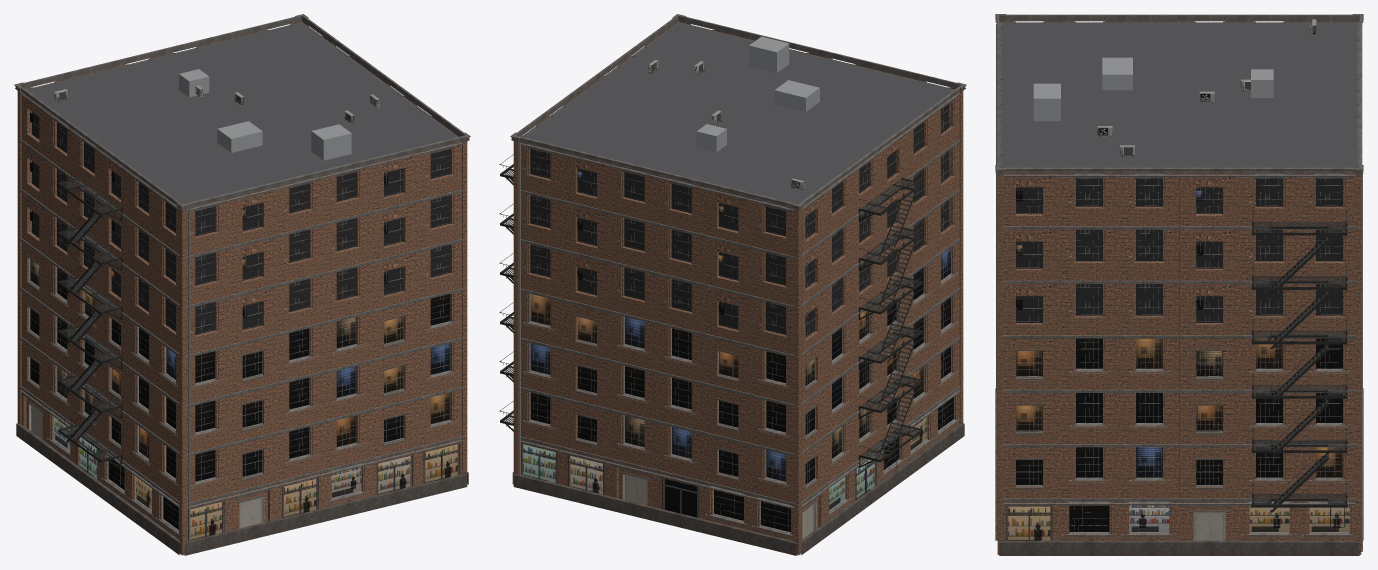
Rendered from loft_b.gltf.
3 renders of one model, left to right at view 1: azimuth 30°, elevation 25°; view 2: azimuth 150°, elevation 25°; view 3: azimuth 270°, elevation 25°, orthographic. The views are drawn at different scales.
Visible parts, largest first — view 1: loft_b; view 2: loft_b; view 3: loft_b.
Boxes of the visible parts, <box> form: loft_b: <box>14,14,470,555</box>; loft_b: <box>499,14,966,555</box>; loft_b: <box>995,14,1363,555</box>.
Bounding box in the file's own units: 20.83 × 22.21 × 18.42.
Materials: 16 (11 with a texture image).
